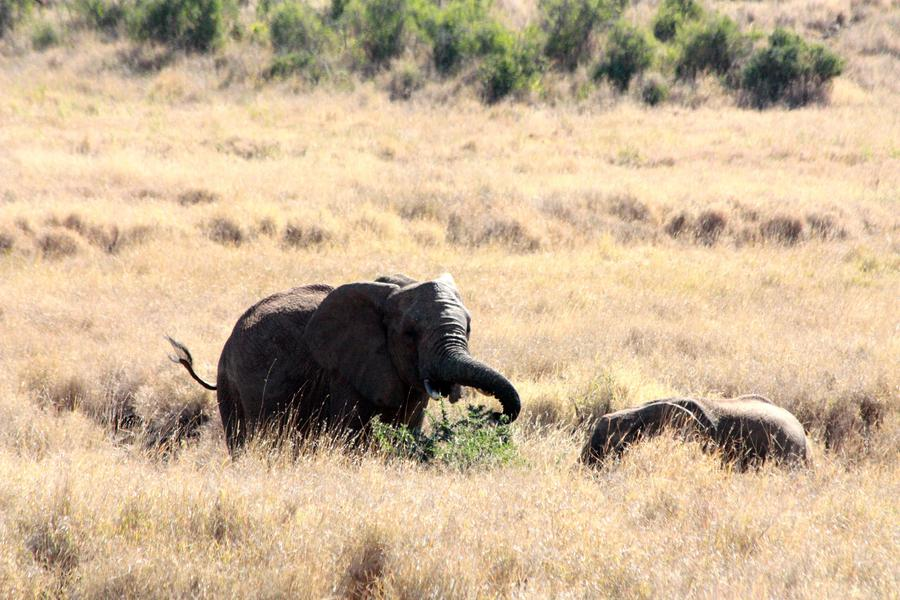elephant: (349, 266, 498, 415)
